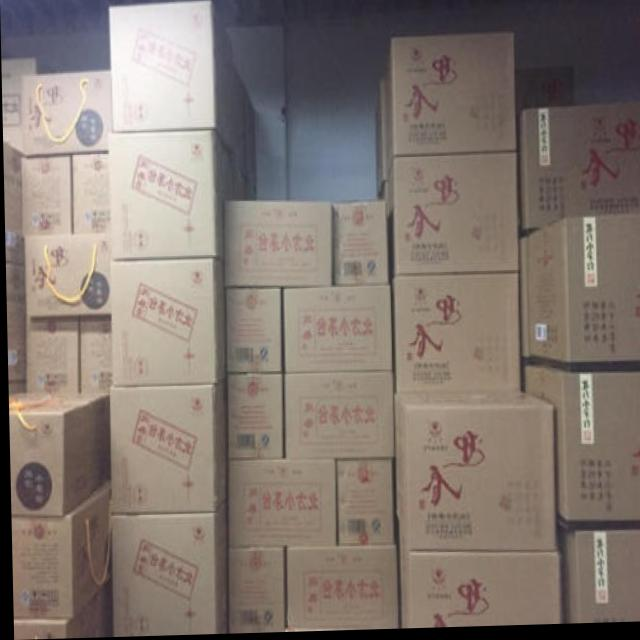box: (392, 394, 555, 552), (109, 2, 233, 164), (521, 365, 640, 523), (383, 36, 515, 177), (395, 529, 563, 631), (527, 217, 640, 366), (108, 381, 226, 520), (110, 130, 233, 263), (385, 154, 517, 276), (390, 273, 520, 396), (109, 504, 227, 638), (517, 106, 640, 232), (109, 260, 227, 388), (9, 483, 109, 620), (7, 392, 108, 519), (226, 458, 335, 551), (284, 547, 399, 634), (222, 201, 334, 288), (281, 373, 392, 460), (281, 287, 392, 374), (557, 530, 640, 627), (21, 235, 111, 320), (21, 71, 110, 155), (11, 583, 110, 640), (224, 285, 283, 376), (225, 548, 283, 635), (335, 460, 392, 547), (226, 376, 281, 463), (333, 202, 387, 288), (19, 153, 73, 236), (21, 317, 79, 393), (69, 151, 109, 236), (1, 56, 36, 151), (516, 72, 573, 121), (76, 316, 111, 394), (4, 258, 24, 381), (3, 145, 21, 259), (232, 58, 246, 180), (242, 88, 257, 189), (374, 78, 386, 196), (232, 164, 248, 201)
